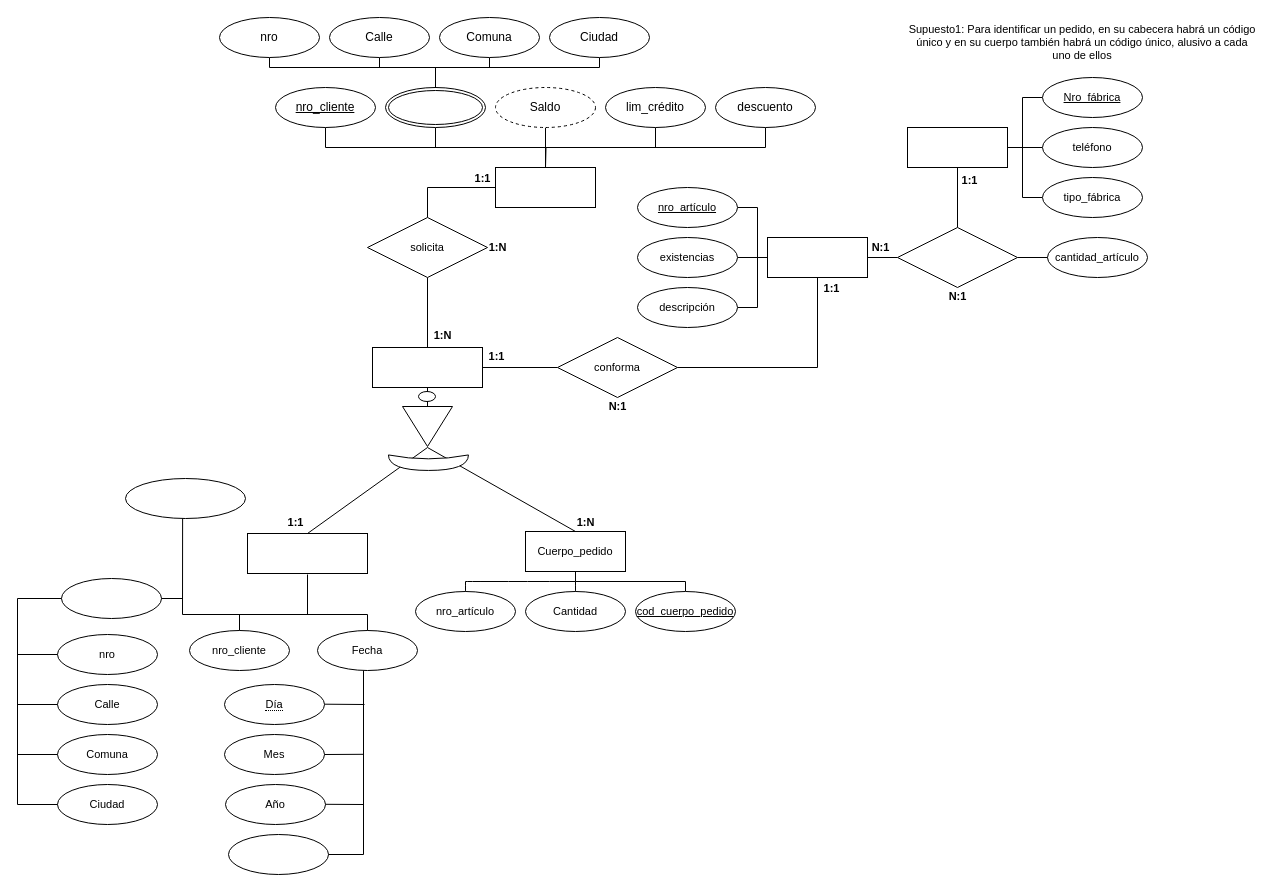
The diagram is 1275 pixels wide and 892 high, and some of its shapes have lost their labels. The shapes that lost their labels are listed below. From the top down, each one's centre as x and y in pixels, then its label:
At point (435, 107): "direcciones".
At point (957, 147): "Fábricas".
At point (545, 187): "Clientes".
At point (817, 257): "Artículos".
At point (957, 257): "distribuyen".
At point (427, 367): "Pedido".
At point (185, 498): "cod_cabecera_pedido".
At point (307, 553): "Cabecera_Pedidos".
At point (111, 598): "dirección".
At point (278, 854): "Hora".
